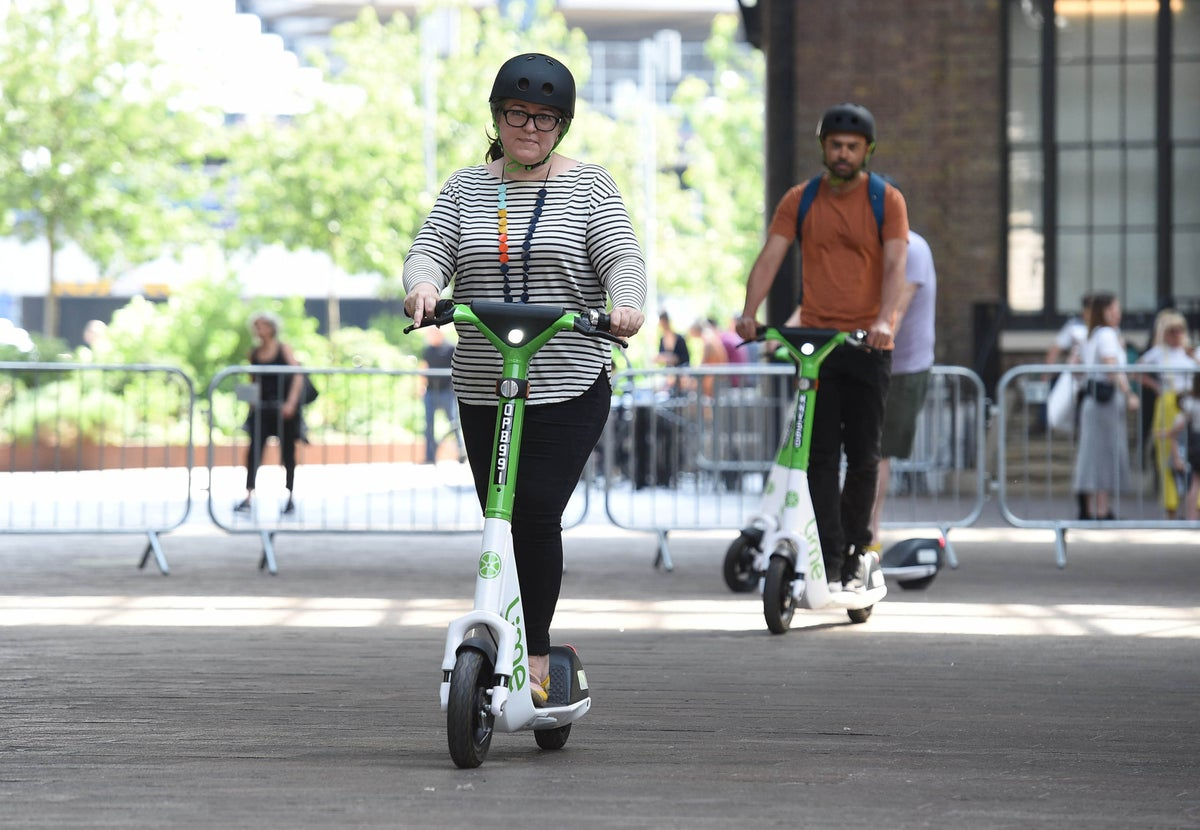scooter: (412, 288, 643, 767), (732, 312, 893, 634)
with helmet: (484, 49, 577, 167), (816, 99, 884, 184)
